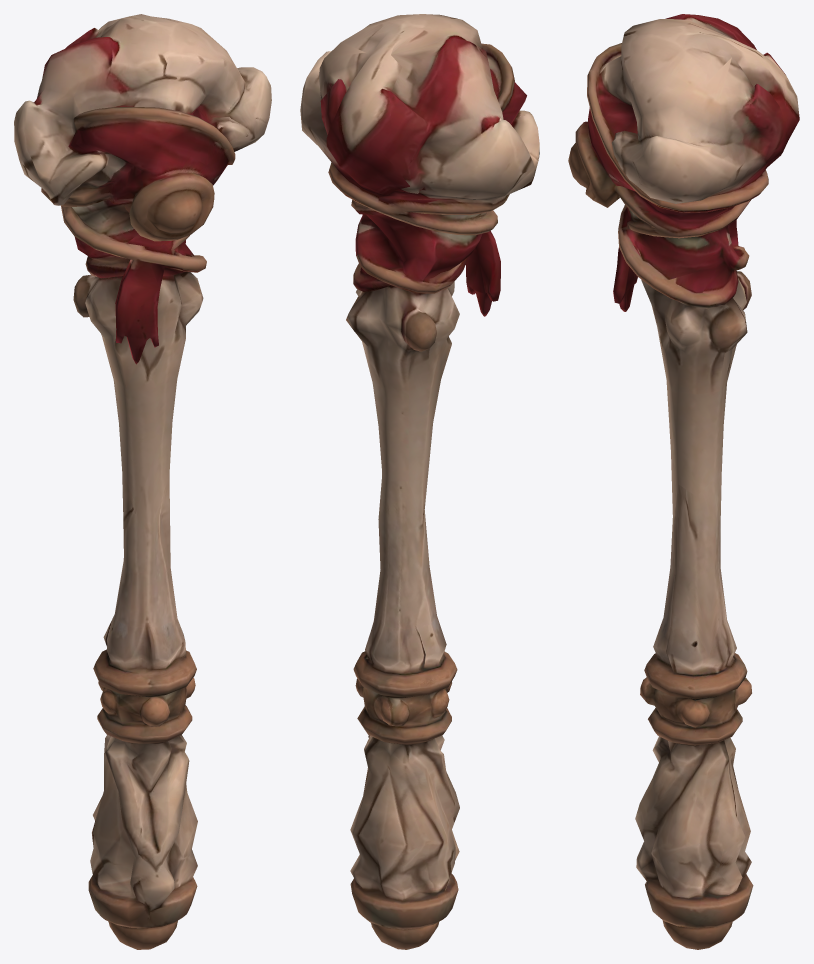
File: SM_EnemyPart_LianguMallet.glb
3 views of the same model, side by side, from view 1: azimuth 30°, elevation 25°; view 2: azimuth 150°, elevation 25°; view 3: azimuth 270°, elevation 25° (orthographic).
Parts seen in each view (by area): view 1: SM_EnemyPart_LianguMallet_LOD0; view 2: SM_EnemyPart_LianguMallet_LOD0; view 3: SM_EnemyPart_LianguMallet_LOD0.
Boxes of the visible parts, x1,y1,x2,y2 form: SM_EnemyPart_LianguMallet_LOD0: (14,14,271,949); SM_EnemyPart_LianguMallet_LOD0: (300,14,539,949); SM_EnemyPart_LianguMallet_LOD0: (568,14,799,949).
Size of what is drawn, in the model's own units: 0.2832 by 1.1 by 0.252.
Materials: 1 (1 with a texture image).
